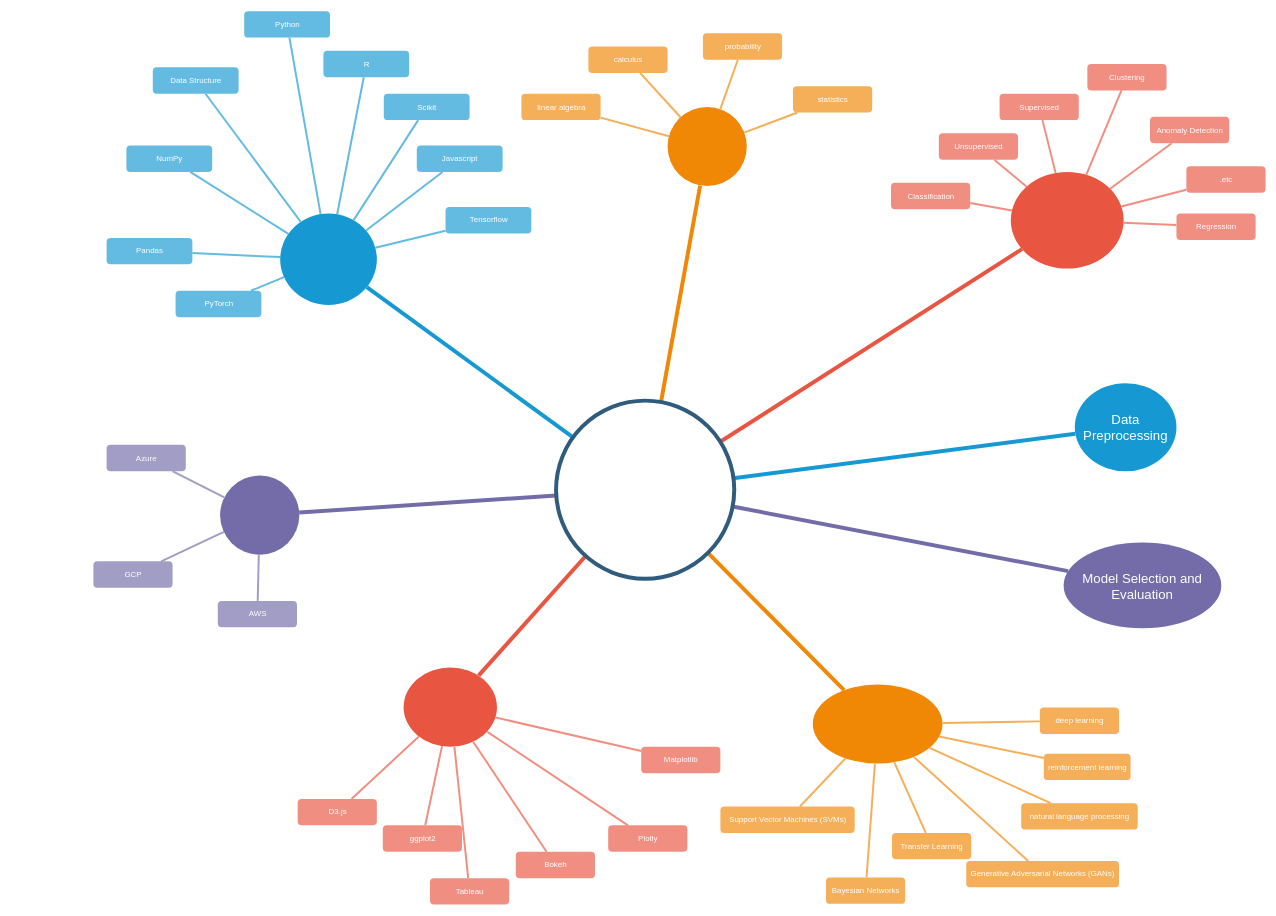
Image size: 1276x916. Some labels were removed from this diagram. The shapes that lost their labels are listed below. From the top down, each one's centre as x and y in pixels, then its label:
At pixel 706 146: "Mathematics".
At pixel 1066 220: "Machine Learning Fundamentals".
At pixel 328 259: "Programming /Libraries".
At pixel 645 489: "Machine Learning".
At pixel 259 514: "Model Deployment".
At pixel 450 706: "Data Visualization".
At pixel 877 723: "Advanced Machine Learning Algorithms".
